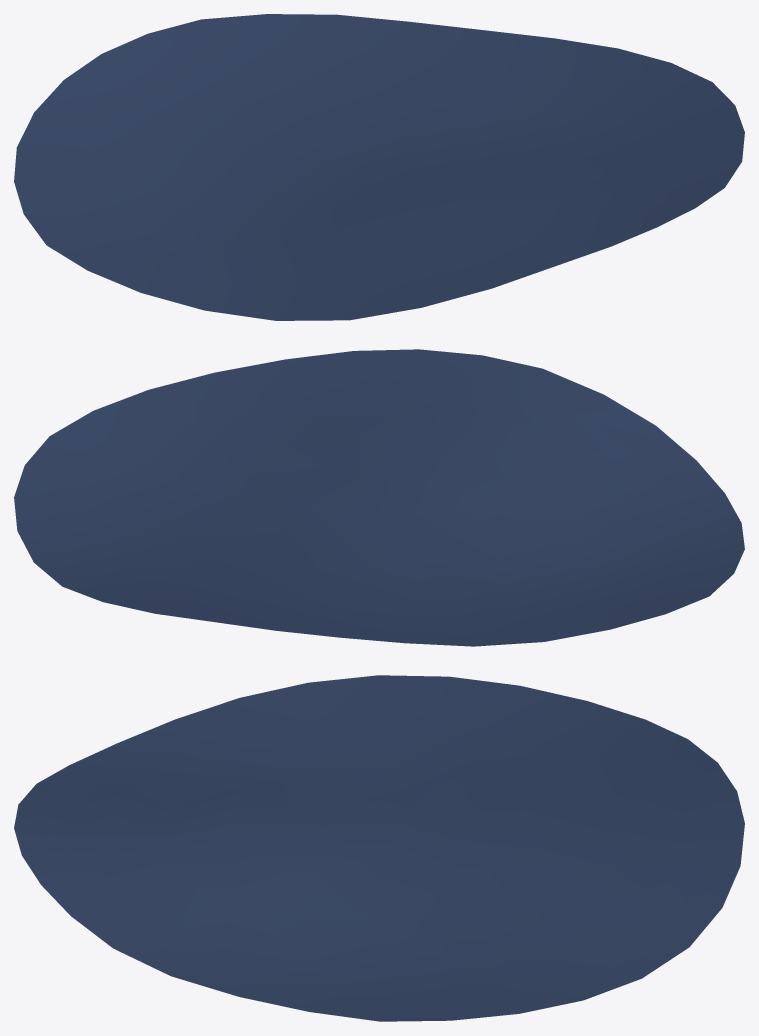
Rendered from mizu.fbx.
The picture shows the model from 3 angles, top to bottom: view 1: azimuth 30°, elevation 25°; view 2: azimuth 150°, elevation 25°; view 3: azimuth 270°, elevation 25°; orthographic projection. The views are drawn at different scales.
Parts seen in each view (by area): view 1: 円; view 2: 円; view 3: 円.
Part boxes in pixels (x1=…): 円: x1=14, y1=14, x2=744, y2=320; 円: x1=14, y1=349, x2=744, y2=646; 円: x1=14, y1=675, x2=744, y2=1021.
Size of the model in its own units: 239 by 213 by 14.03.
